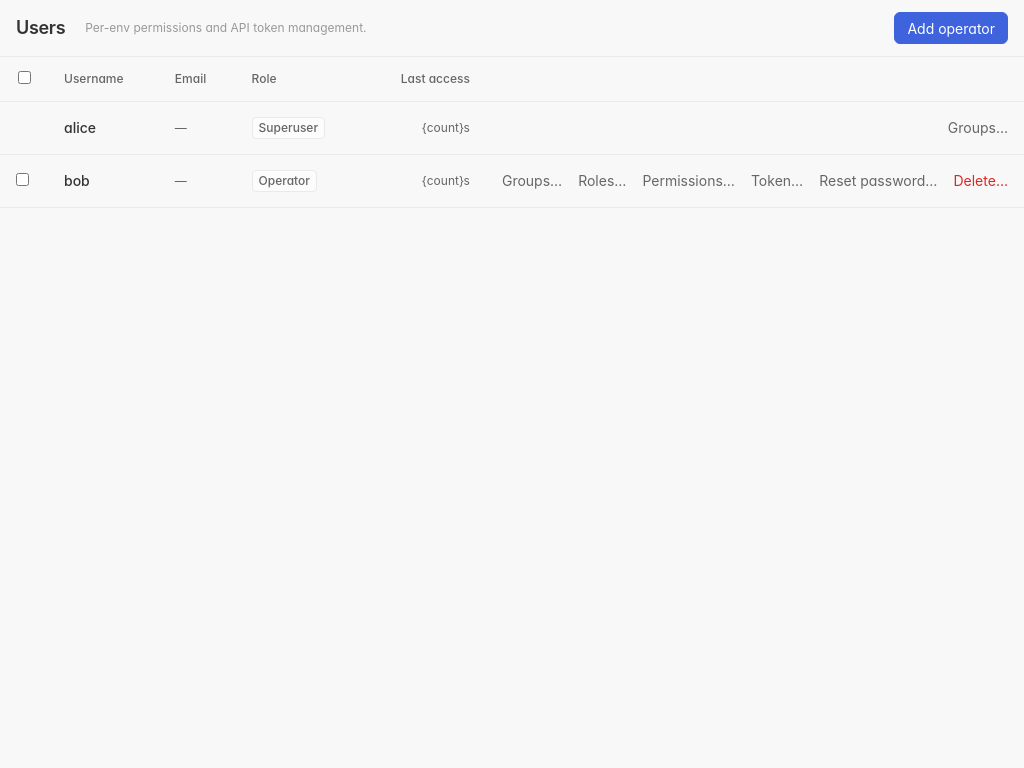
Test: UsersPage › user admin: create modal offers roles but not Superuser; superuser rows have no actions
expect the buttons read "Groups…", in this order: met, box [940,114,1016,142]
expect the button "Roles…" is shown: met, box [570,167,634,195]
Click the button "Add operator": (951, 28) [894,12,1008,44]
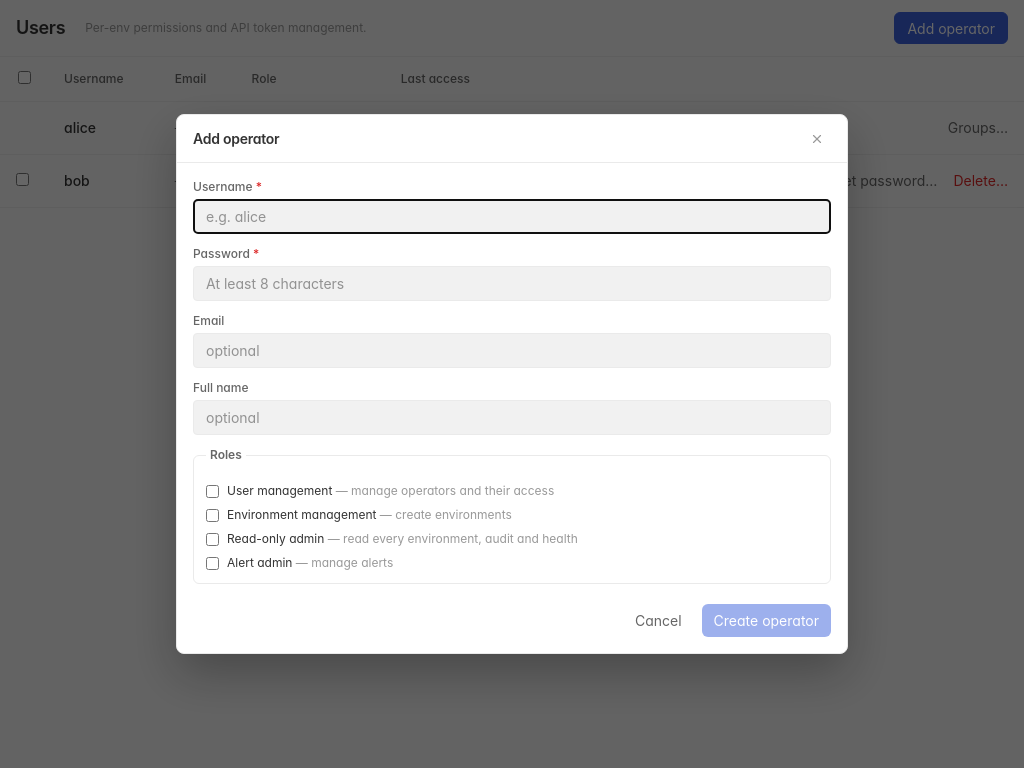
expect the checkbox labelled "User management — manage operators and their access" is shown: met, box [206,484,219,498]
expect the checkbox labelled "Environment management — create environments" is shown: met, box [206,508,219,522]
expect the checkbox labelled "Read-only admin — read every environment, audit and health" is shown: met, box [206,532,219,546]
